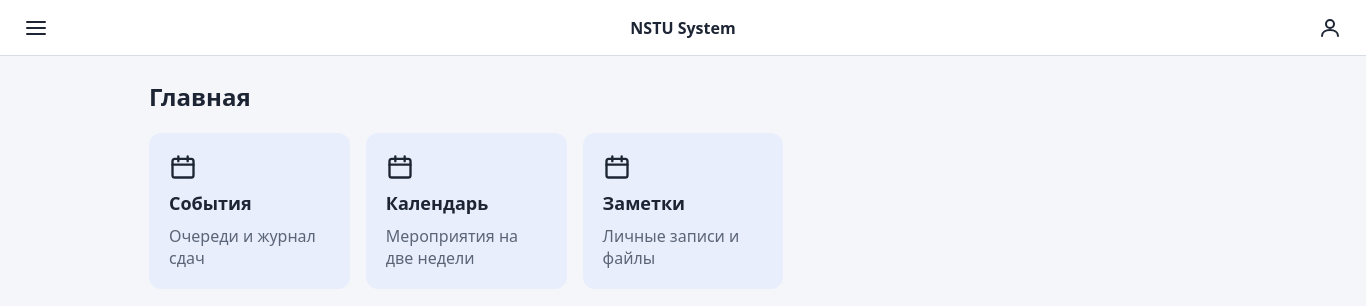
Test case: главная страница как реестр модулей › переход по плитке «Заметки» открывает модуль заметок
This screenshot has width=1366, height=306.
Click the link with test id "module-tile" showing "Заметки Личные записи и файлы".
click(683, 211)  # box x1=583 y1=133 x2=783 y2=289
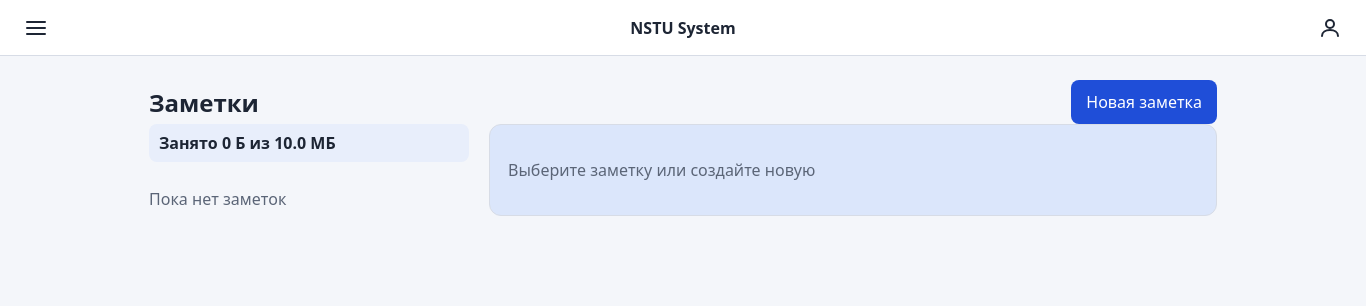
Result: the heading "Заметки" is shown at x1=149 y1=86 x2=259 y2=118
